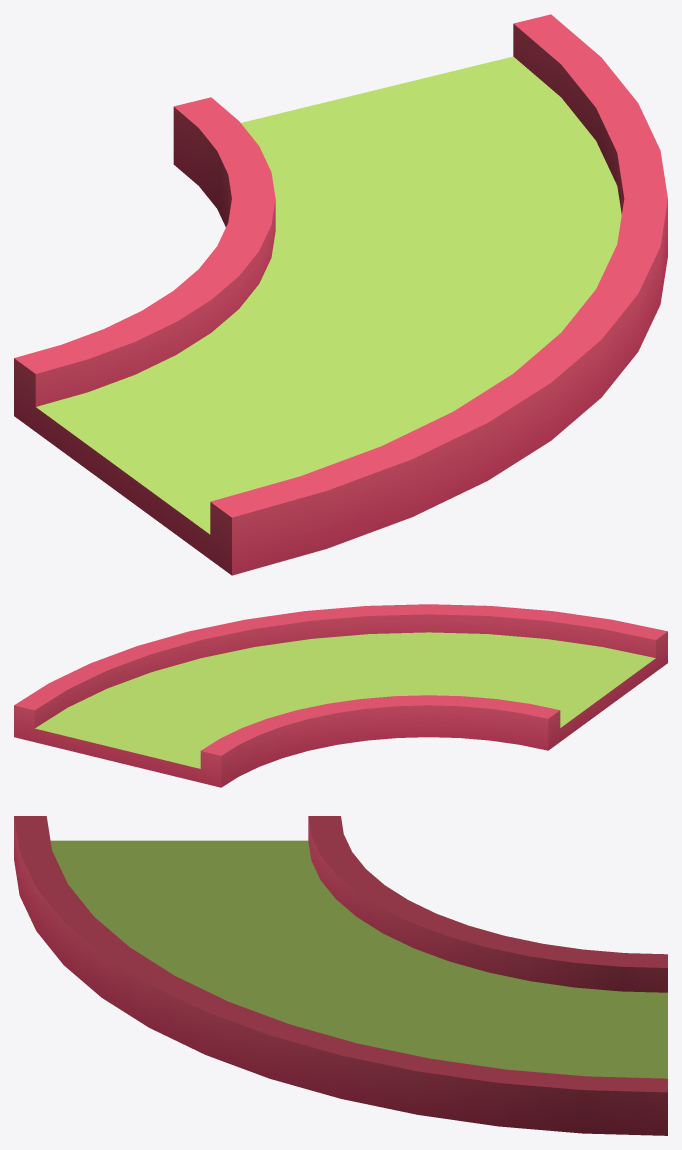
File: round-large-corner.gltf
3 views of the same model, one above another, from view 1: azimuth 30°, elevation 25°; view 2: azimuth 150°, elevation 25°; view 3: azimuth 270°, elevation 25° (orthographic). The views are drawn at different scales.
Visible parts, largest first — view 1: round-large-corner; view 2: round-large-corner; view 3: round-large-corner.
Boxes of the visible parts, x1=… form: round-large-corner: x1=14, y1=14, x2=667, y2=575; round-large-corner: x1=14, y1=604, x2=667, y2=787; round-large-corner: x1=14, y1=816, x2=667, y2=1135.
Bounding box in the file's own units: 2 × 0.1467 × 2.
Materials: 1 (1 with a texture image).
